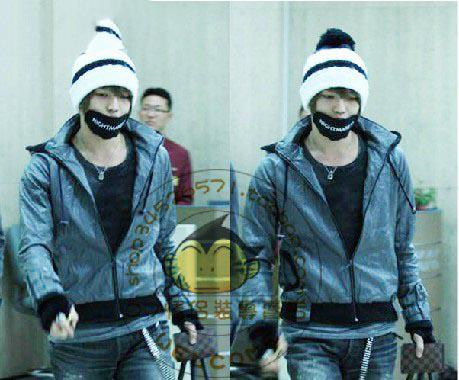NONE: (142, 101, 167, 131)
WRONG: (83, 81, 135, 133), (315, 85, 364, 139)
